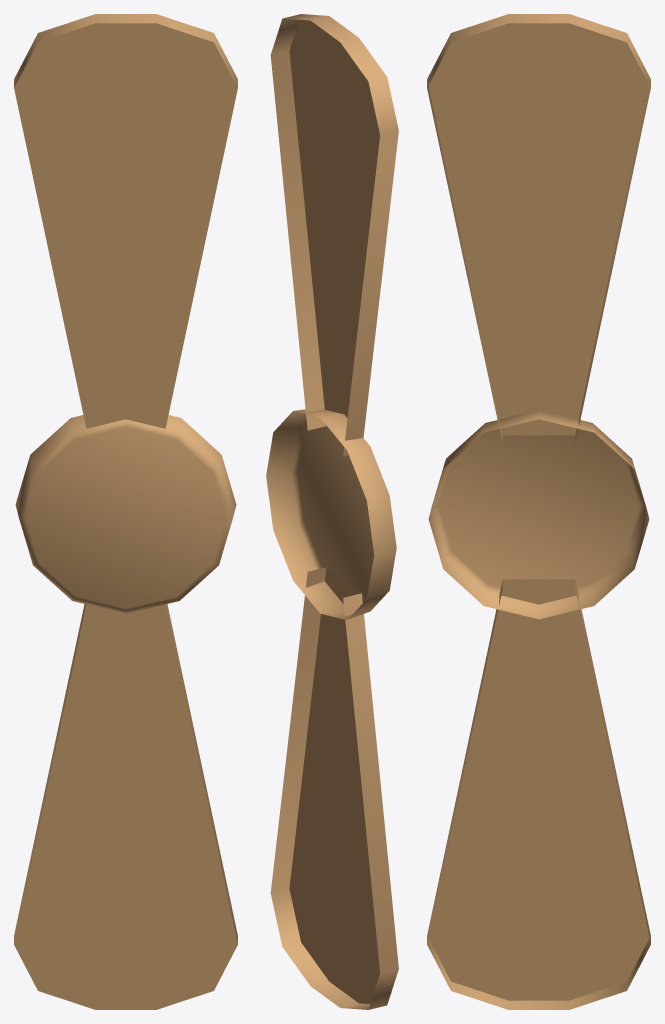
The model's file is ball_machine_handle.fbx.
3 views of the same model, side by side, from view 1: azimuth 90°, elevation 25°; view 2: azimuth 210°, elevation 25°; view 3: azimuth 270°, elevation 25° (orthographic). The views are drawn at different scales.
Visible parts, largest first — view 1: ball_machine_handle; view 2: ball_machine_handle; view 3: ball_machine_handle.
Part boxes in pixels (x1,y1,x2,y2): ball_machine_handle: (14,14,237,1009); ball_machine_handle: (266,14,398,1009); ball_machine_handle: (427,14,650,1009).
Bounding box in the file's own units: 0.291 × 10.12 × 2.08.
